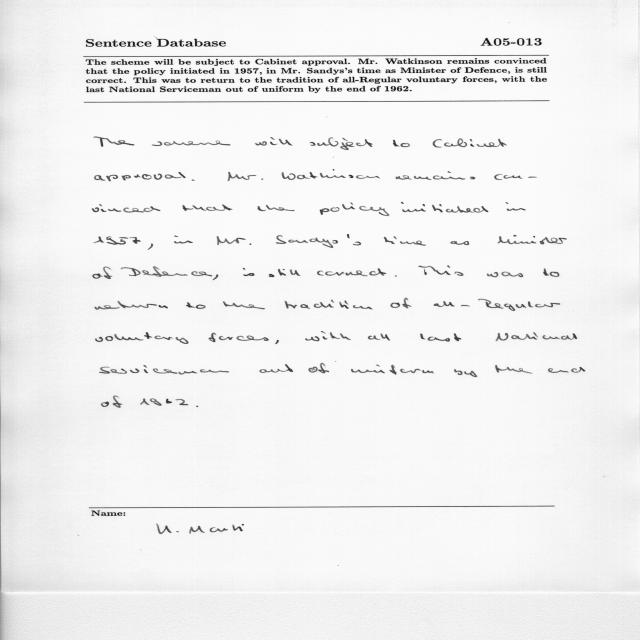word: (276, 234, 395, 248), (434, 299, 560, 311), (121, 266, 218, 280), (100, 365, 229, 374), (96, 332, 189, 344), (282, 169, 380, 180), (401, 202, 488, 213), (320, 203, 389, 216), (285, 300, 373, 310), (351, 365, 434, 375), (95, 172, 186, 181), (310, 137, 372, 150), (433, 138, 507, 148), (496, 332, 577, 341), (396, 171, 476, 180), (497, 235, 567, 245), (95, 301, 168, 310), (93, 204, 161, 213), (209, 333, 269, 343), (317, 269, 386, 277), (152, 140, 230, 146), (305, 332, 351, 342), (419, 266, 464, 276), (94, 236, 140, 245), (94, 137, 135, 147), (421, 333, 462, 342), (182, 204, 233, 211), (223, 302, 265, 310), (140, 399, 188, 406), (393, 236, 426, 246), (228, 172, 263, 181), (217, 236, 252, 245), (259, 364, 293, 373), (496, 365, 533, 373), (494, 174, 537, 180), (102, 396, 123, 408), (93, 267, 112, 279), (258, 205, 295, 211), (548, 367, 585, 373), (391, 298, 412, 308), (308, 363, 329, 373), (255, 137, 278, 146), (505, 202, 526, 211), (454, 369, 477, 377), (487, 272, 523, 277), (278, 269, 301, 276), (368, 334, 390, 341), (543, 268, 560, 277), (174, 236, 193, 244), (186, 302, 205, 309), (393, 140, 410, 147), (279, 139, 293, 146), (243, 268, 255, 276), (451, 241, 469, 245), (148, 244, 153, 250), (275, 340, 279, 344), (269, 274, 274, 277), (192, 179, 195, 181), (395, 275, 397, 277), (196, 406, 198, 407)
